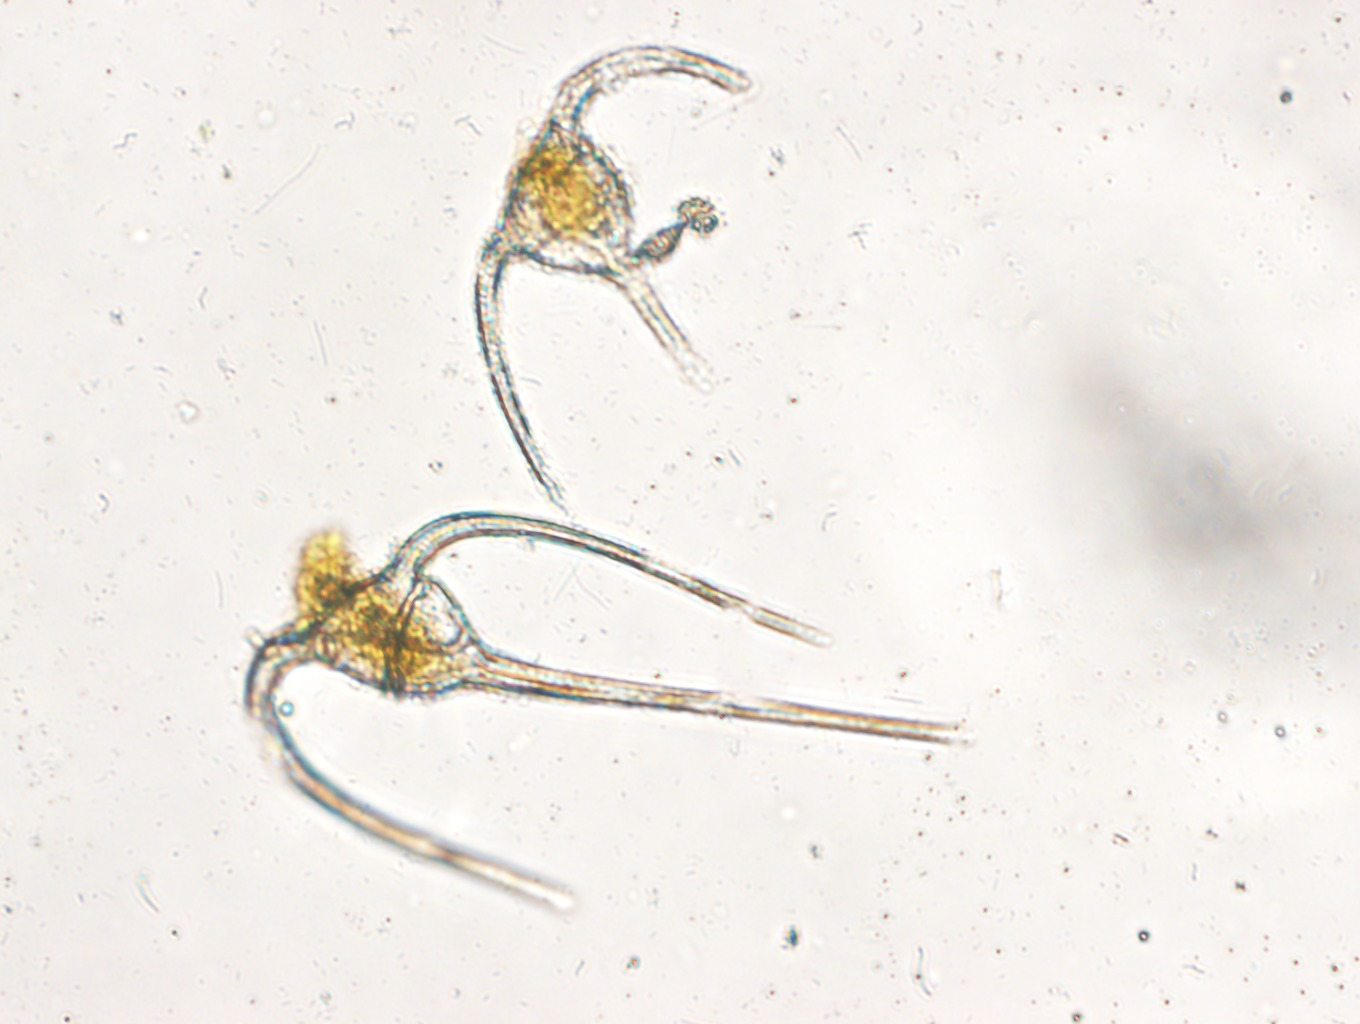ceratium trichoceros: (228, 495, 972, 916), (460, 29, 753, 513)
